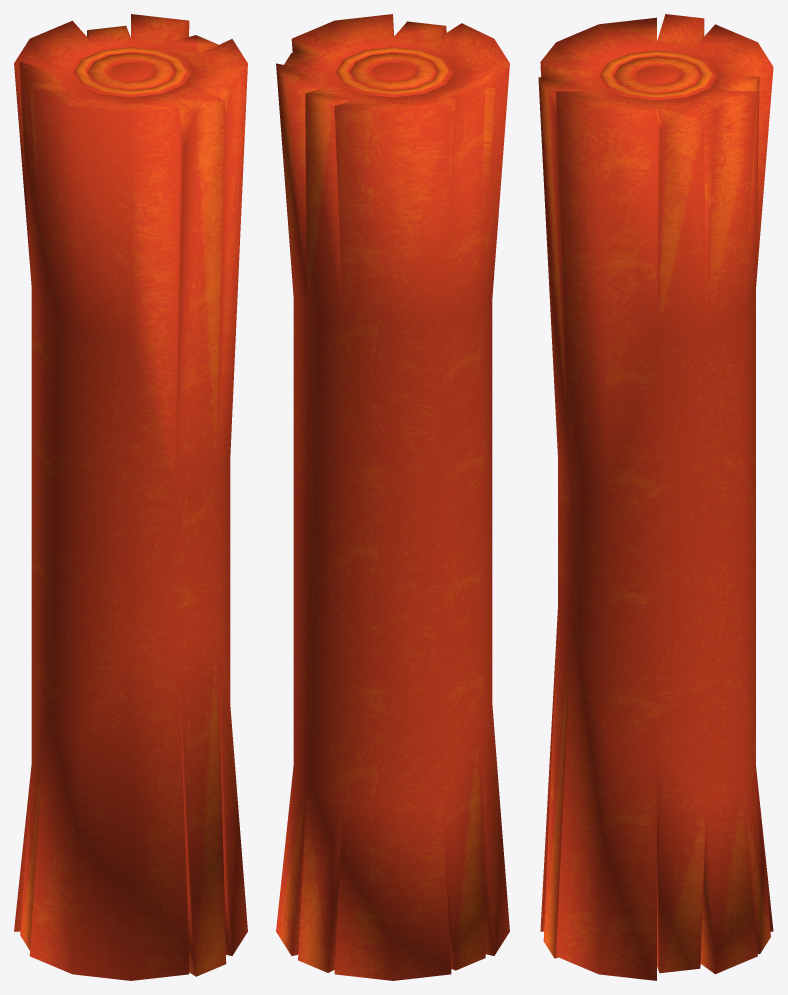
Rendered from Small pole.fbx.
3 views of the same model, side by side, from view 1: azimuth 30°, elevation 25°; view 2: azimuth 150°, elevation 25°; view 3: azimuth 270°, elevation 25° (orthographic).
Visible parts, largest first — view 1: Small Pole; view 2: Small Pole; view 3: Small Pole.
Boxes of the visible parts, bbox=[...] form: Small Pole: bbox=[14, 14, 247, 980]; Small Pole: bbox=[276, 14, 509, 980]; Small Pole: bbox=[538, 14, 773, 980].
Size of the model in its own units: 48.19 by 200 by 48.61.
